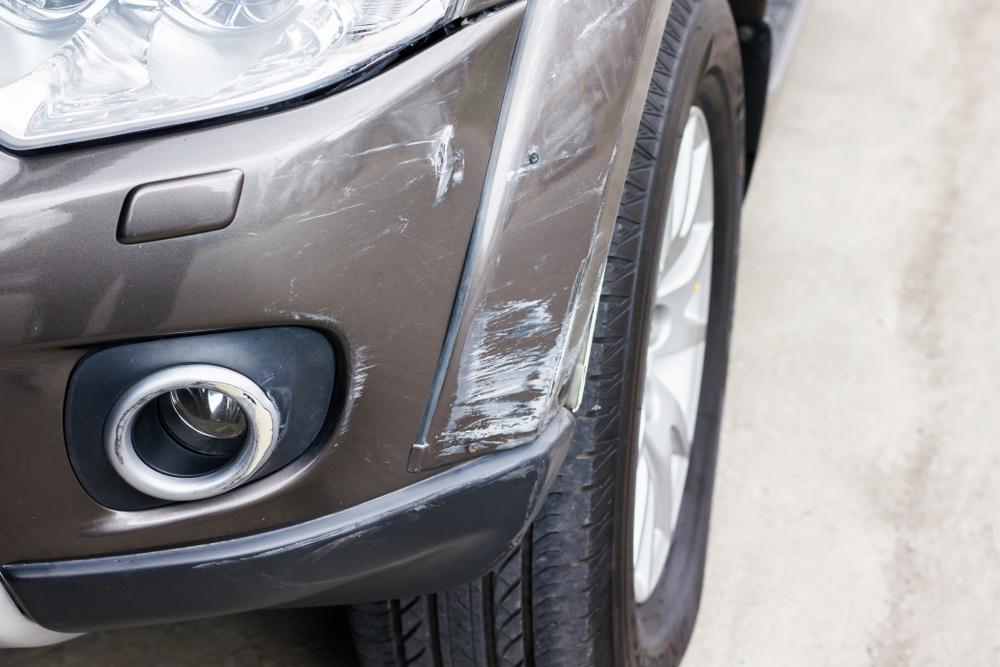scratch: (439, 0, 645, 458), (267, 110, 476, 408)
